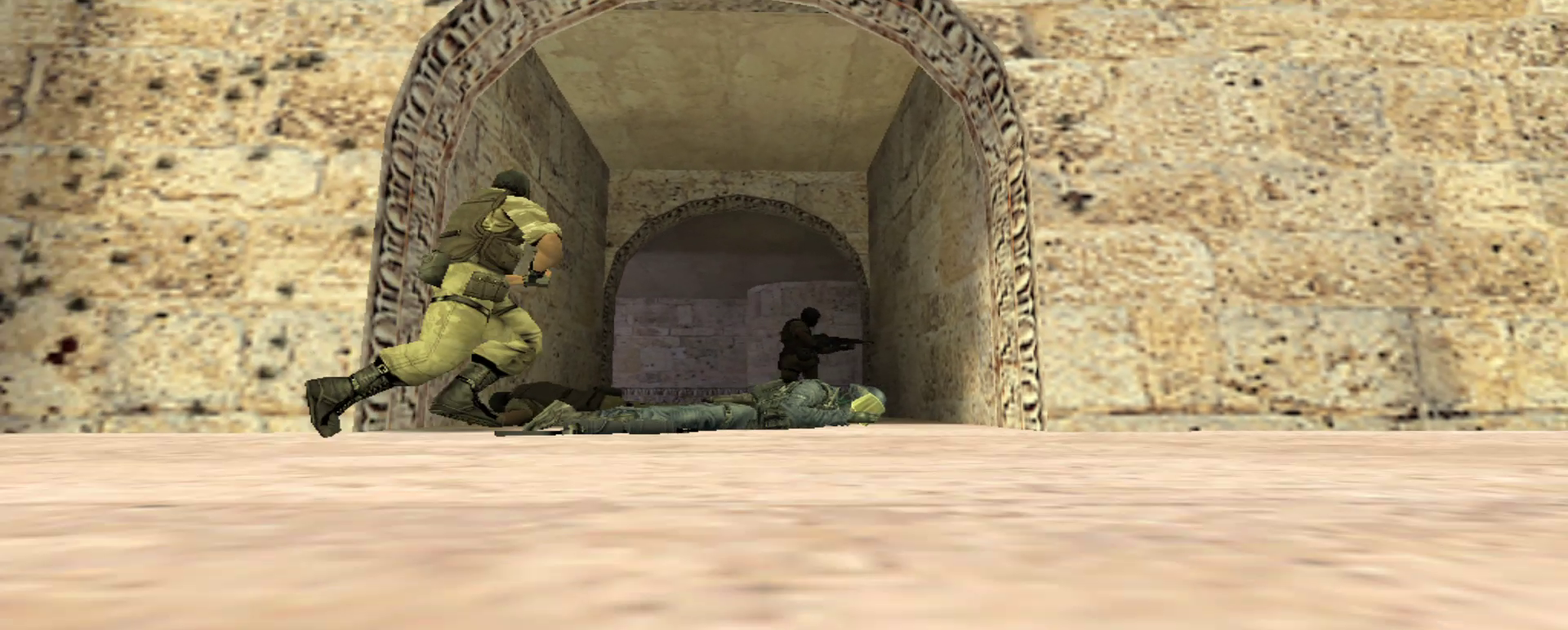ter: (377, 191, 565, 424), (778, 319, 821, 383)
ter_head: (492, 167, 535, 201), (800, 305, 821, 329)
